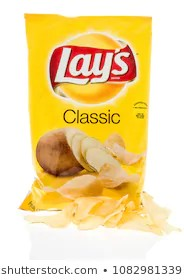lays-med: (19, 13, 155, 230)
